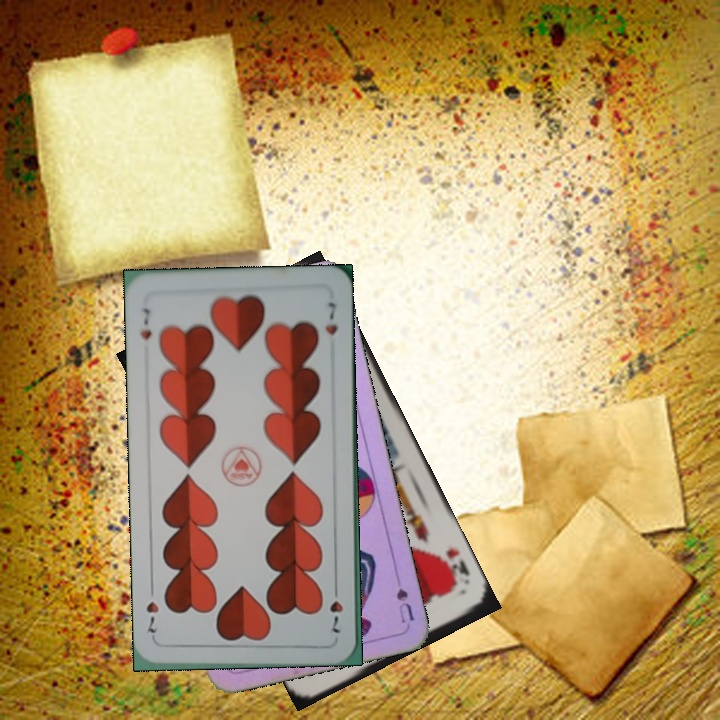H7: (325, 580, 345, 636), (136, 304, 154, 342)
HK: (435, 543, 473, 589)
SU: (392, 584, 417, 626)
